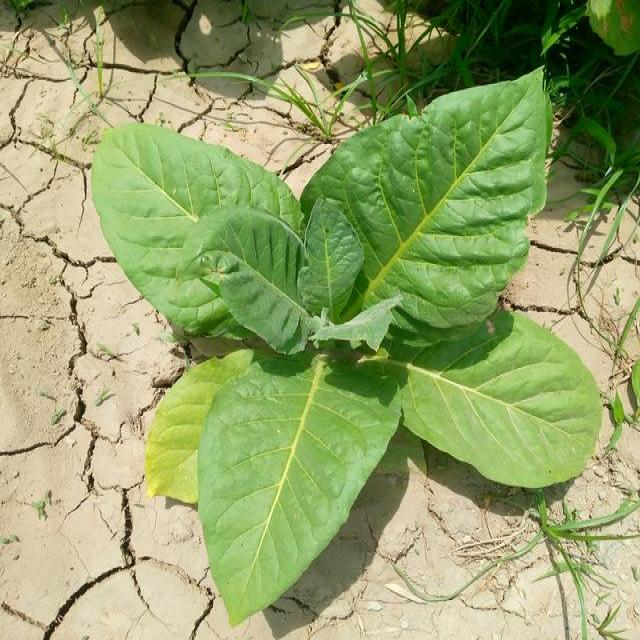crop: (89, 69, 602, 630)
